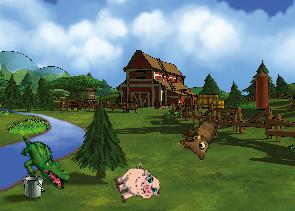crocodile: (9, 134, 78, 191)
owl: (181, 109, 220, 161)
pig: (110, 159, 163, 210)
